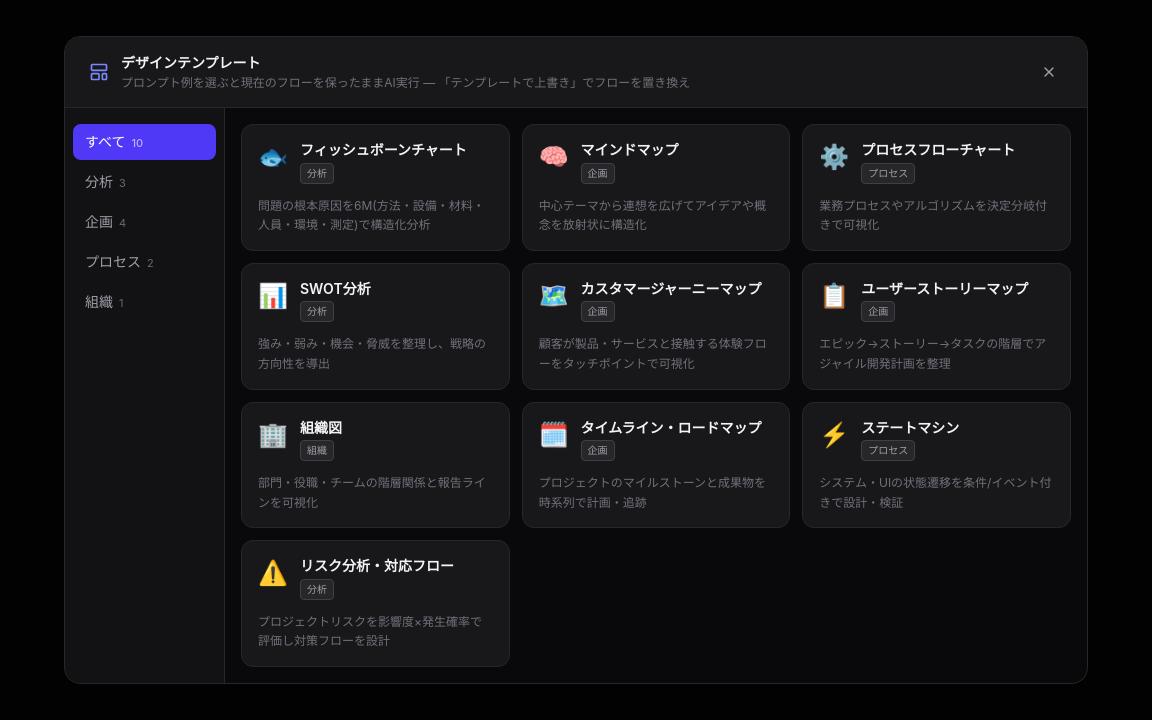
it: TemplateGallery › 「すべて」に戻すと全テンプレートが表示される
The width and height of the screenshot is (1152, 720).
filter to analysis
Click the button "分析3".
click(144, 182)  # box [73, 164, 216, 200]
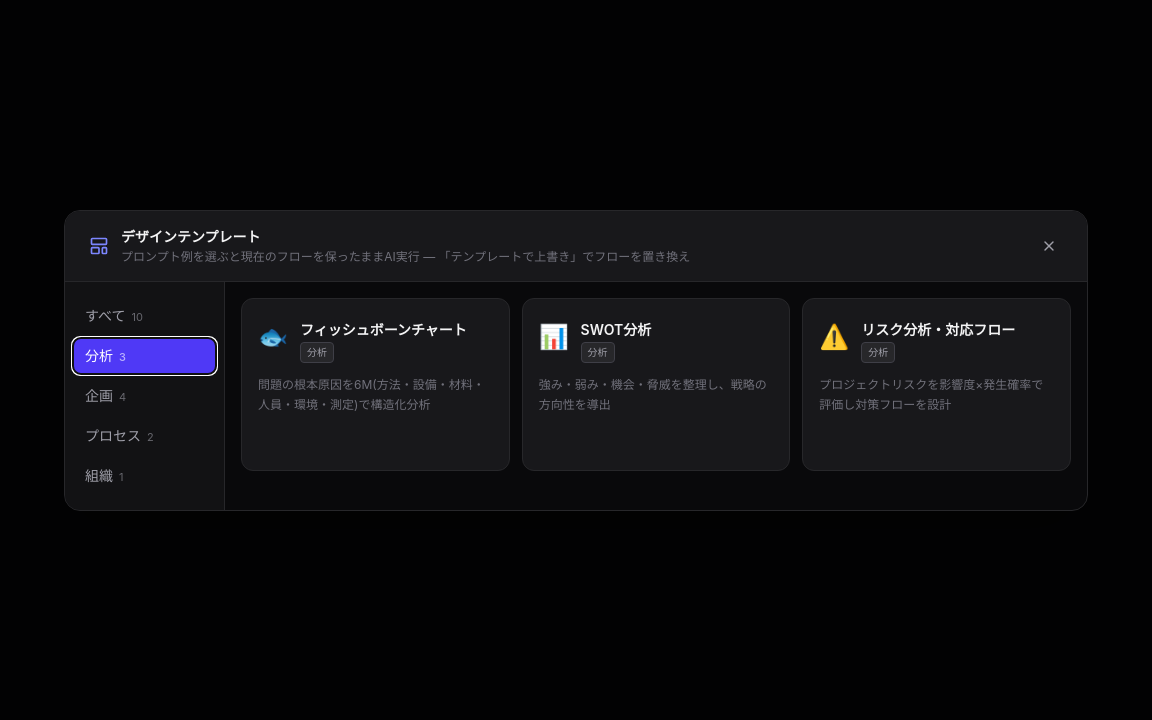
back to all
Click the button "すべて10".
click(144, 316)  # box [73, 298, 216, 334]
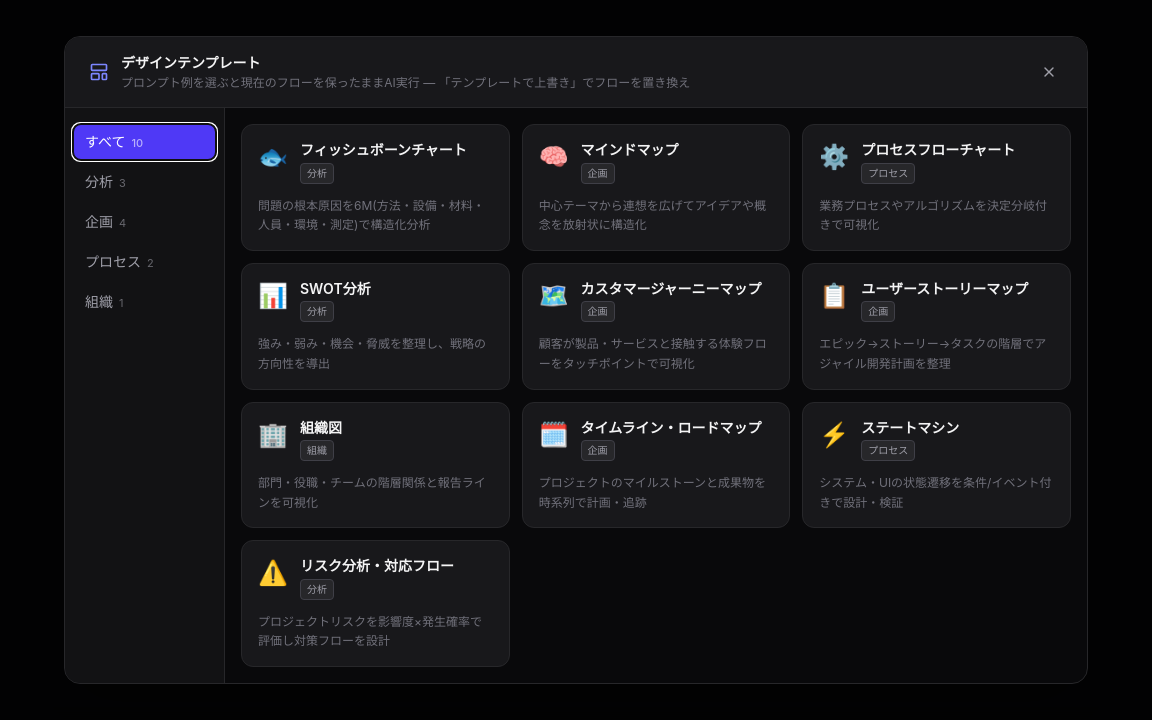
Check: the text "マインドマップ" is shown, box [581, 141, 679, 158]
Check: the text "プロセスフローチャート" is shown, box [861, 141, 1015, 158]
Check: the text "カスタマージャーニーマップ" is shown, box [581, 280, 762, 297]
